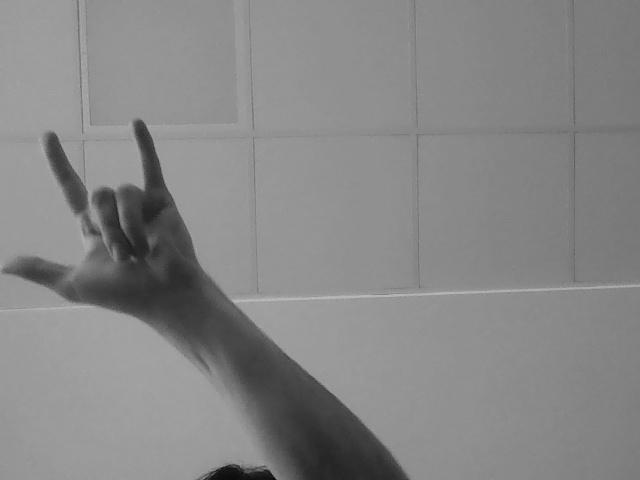I_Love_You: (15, 131, 261, 343)
